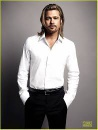male: (38, 3, 70, 45)
